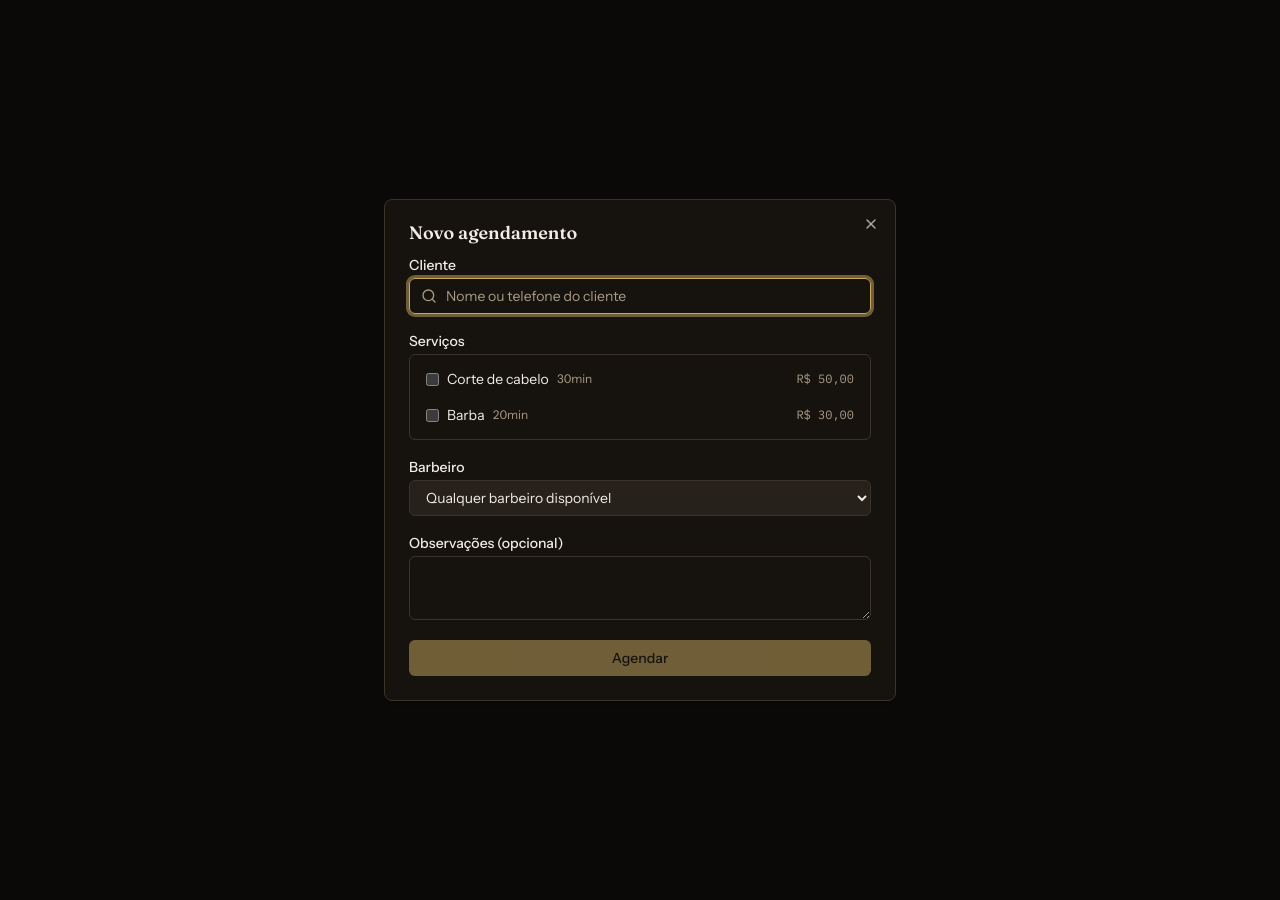
NewAppointmentDialog › trocar de serviço reseta o horário selecionado
This screenshot has width=1280, height=900.
In the field with placeholder "Nome ou telefone do cliente": (640, 296) x1=409 y1=278 x2=871 y2=314, type "Maria"
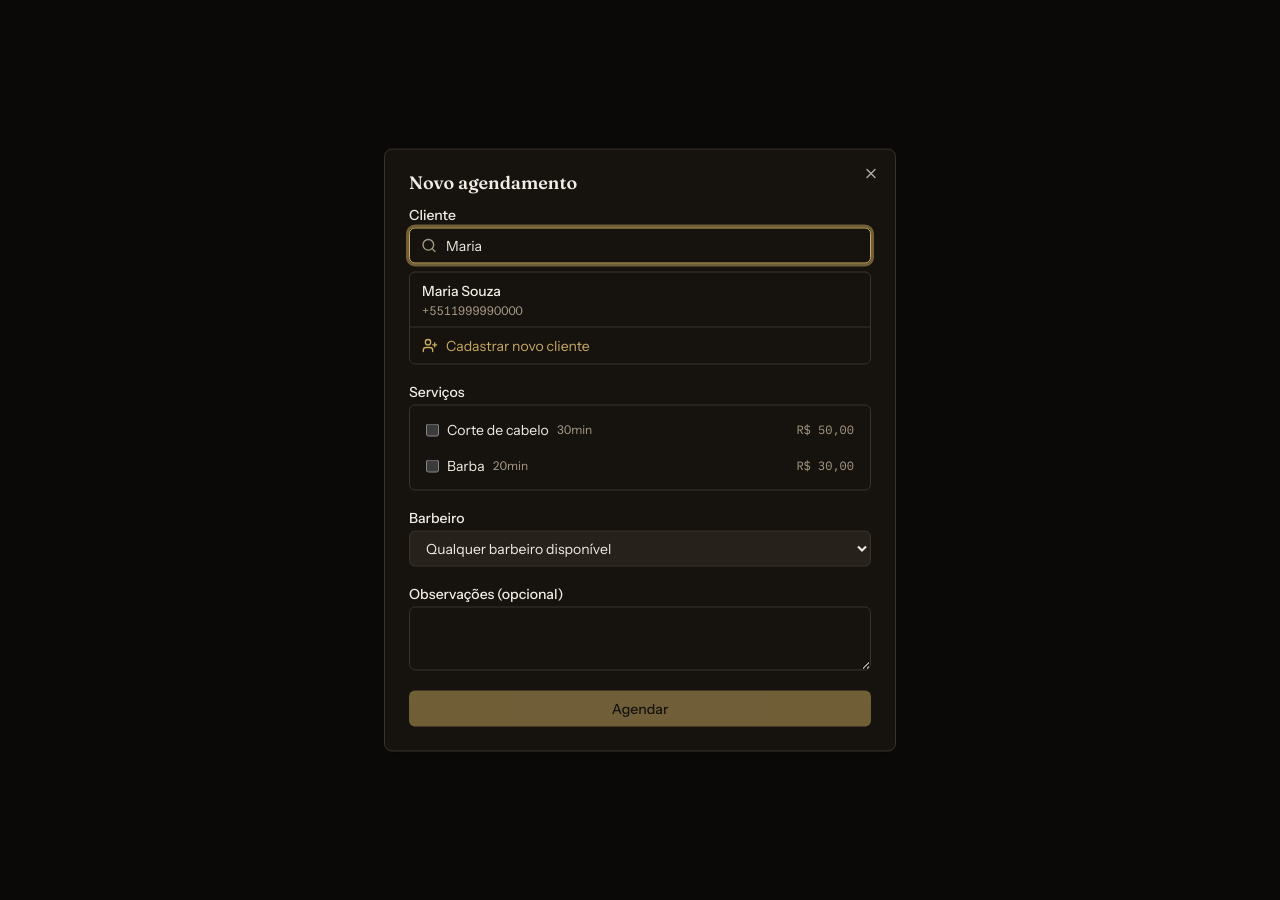
Click the text "Maria Souza": (461, 290) x1=422 y1=280 x2=501 y2=300
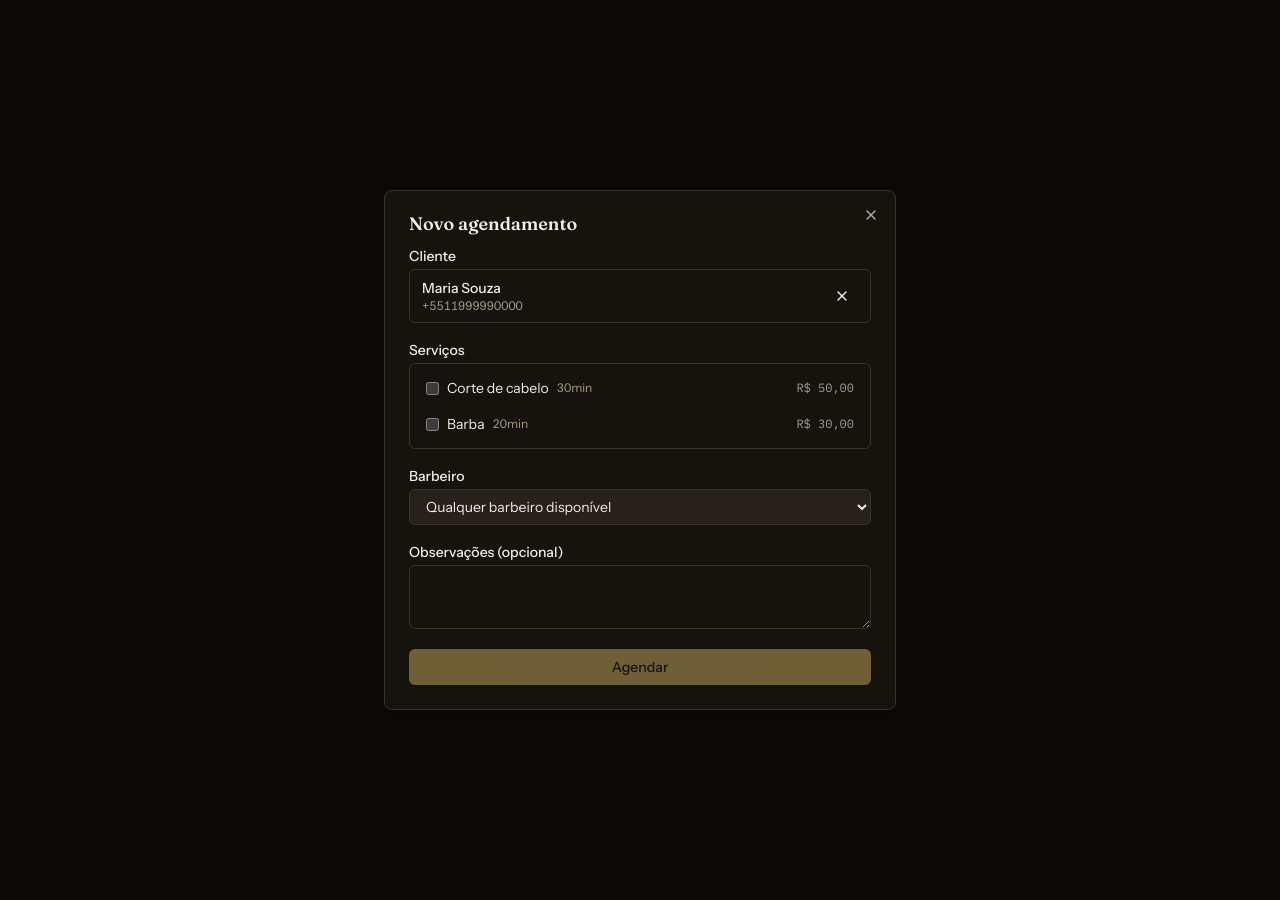
Click the checkbox labelled "Corte de cabelo 30min R$ 50,00": (432, 388) x1=426 y1=382 x2=439 y2=394
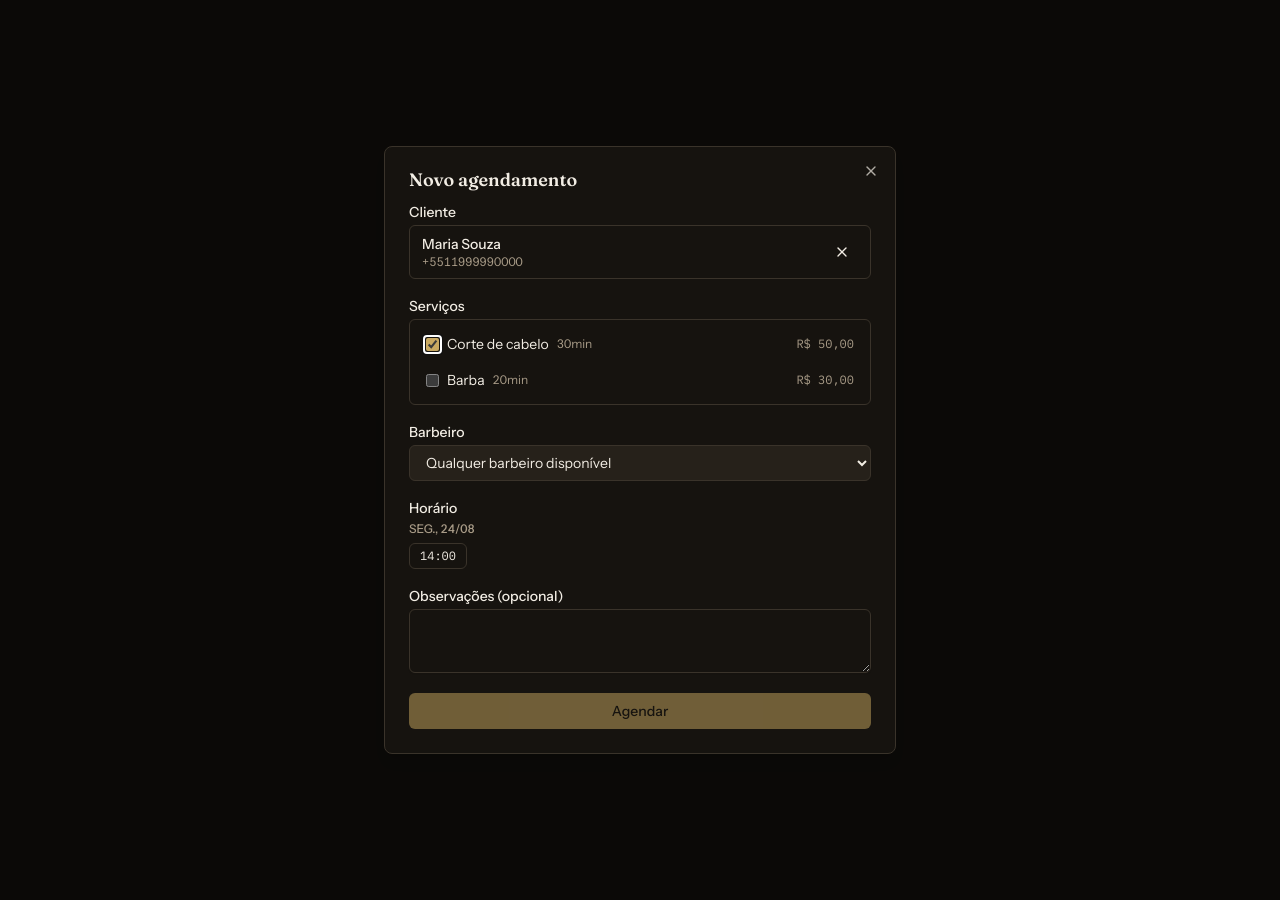
Click the button "14:00": (438, 556) x1=409 y1=543 x2=467 y2=569
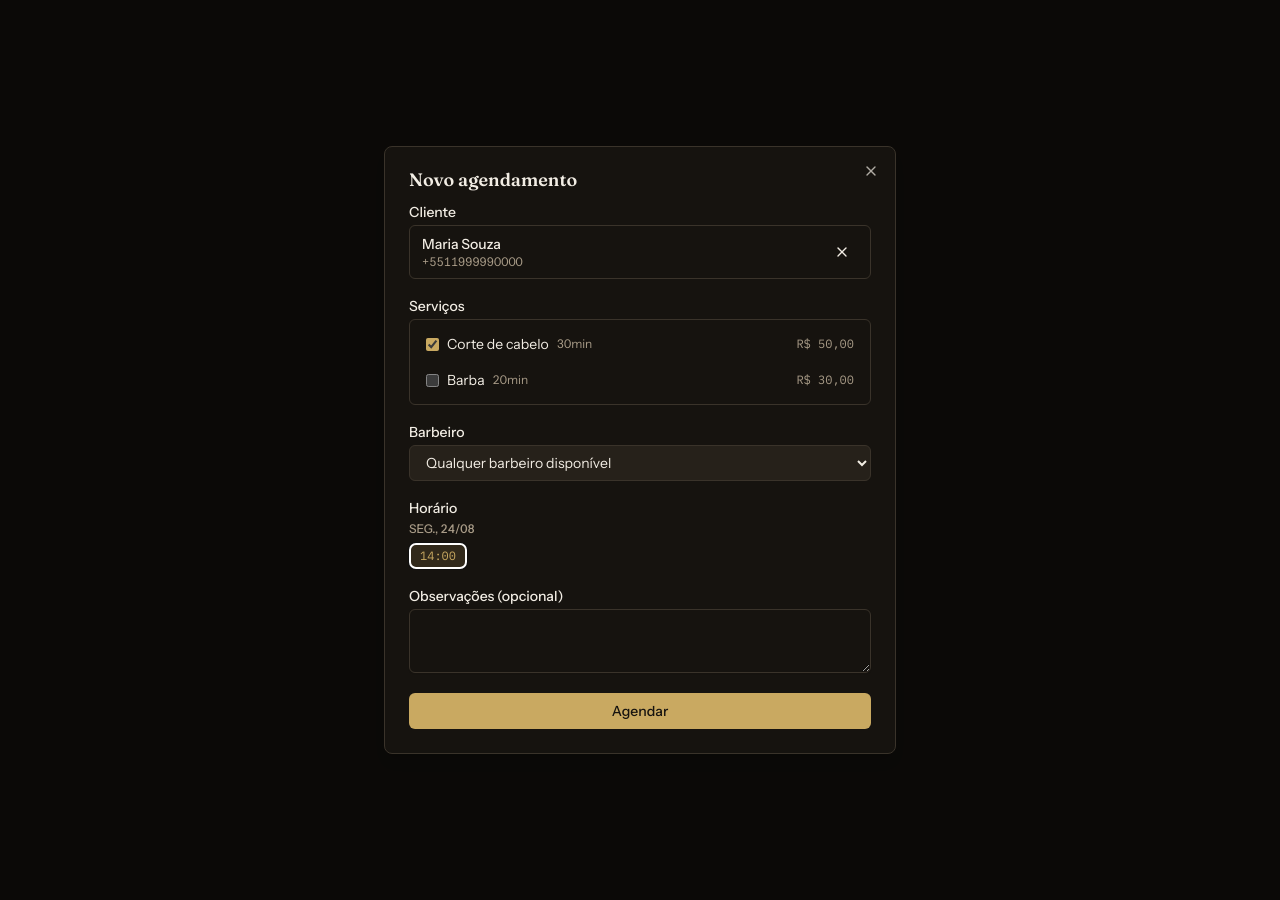
Expected: the button "Agendar" is enabled, x1=409 y1=693 x2=871 y2=729
Click the checkbox labelled "Barba 20min R$ 30,00": (432, 380) x1=426 y1=374 x2=439 y2=386
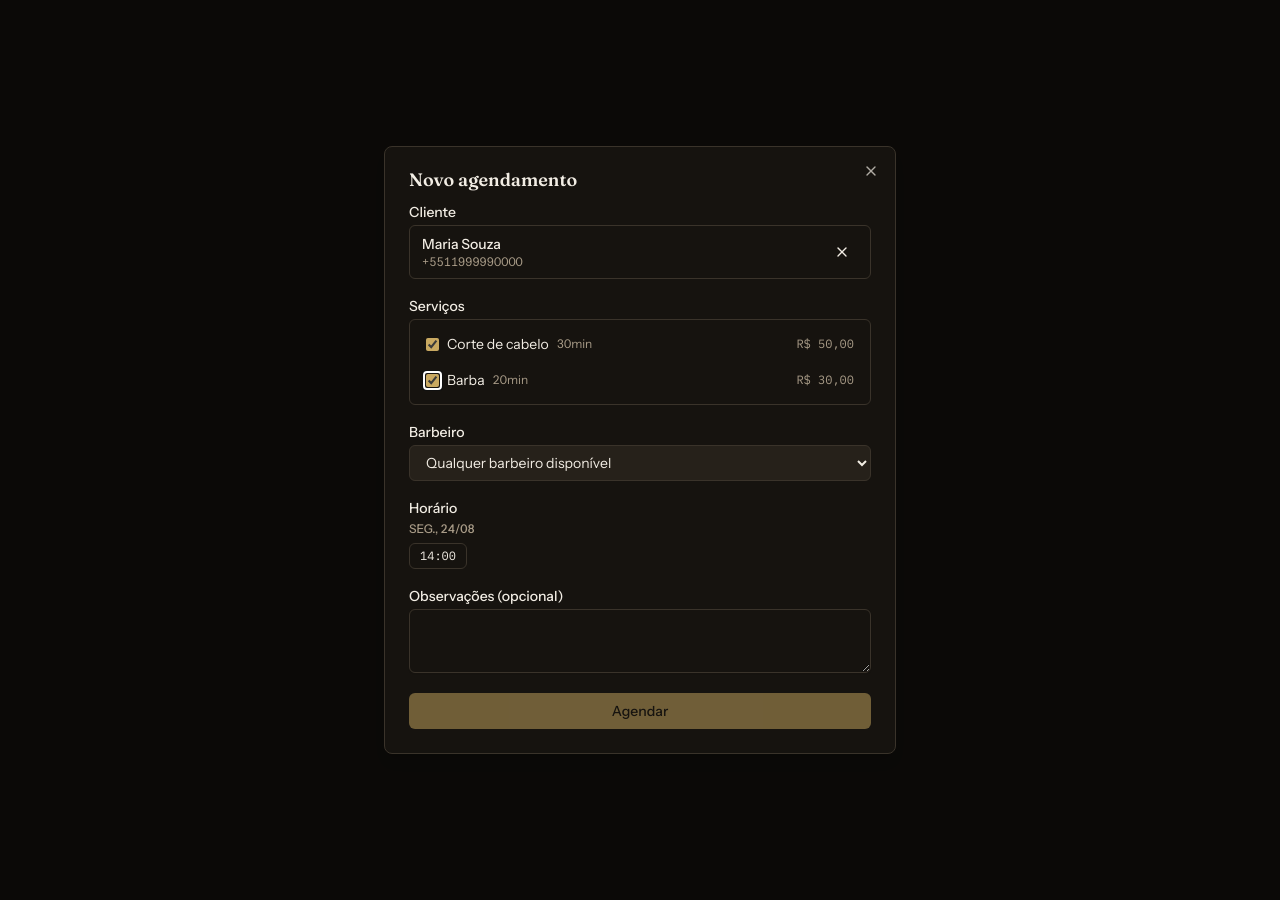
Expected: the button "Agendar" is disabled, x1=409 y1=693 x2=871 y2=729
